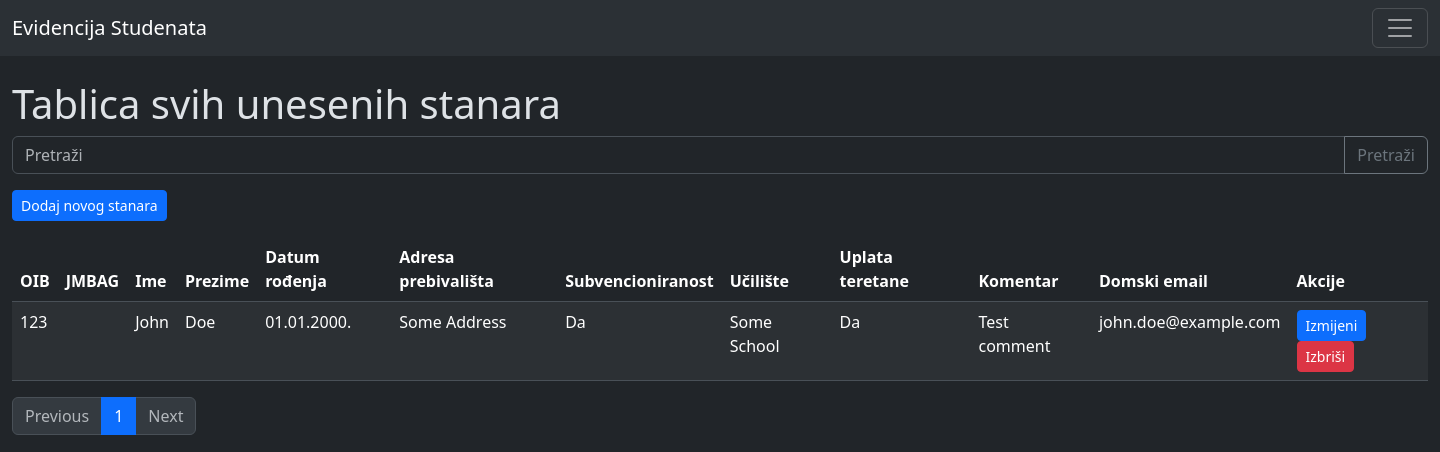
PopisUnesenihStanaraPage › deletes a user correctly
Simulate delete action
Click the button "Izbriši" at (1325, 356), box 1296,341 -> 1354,372
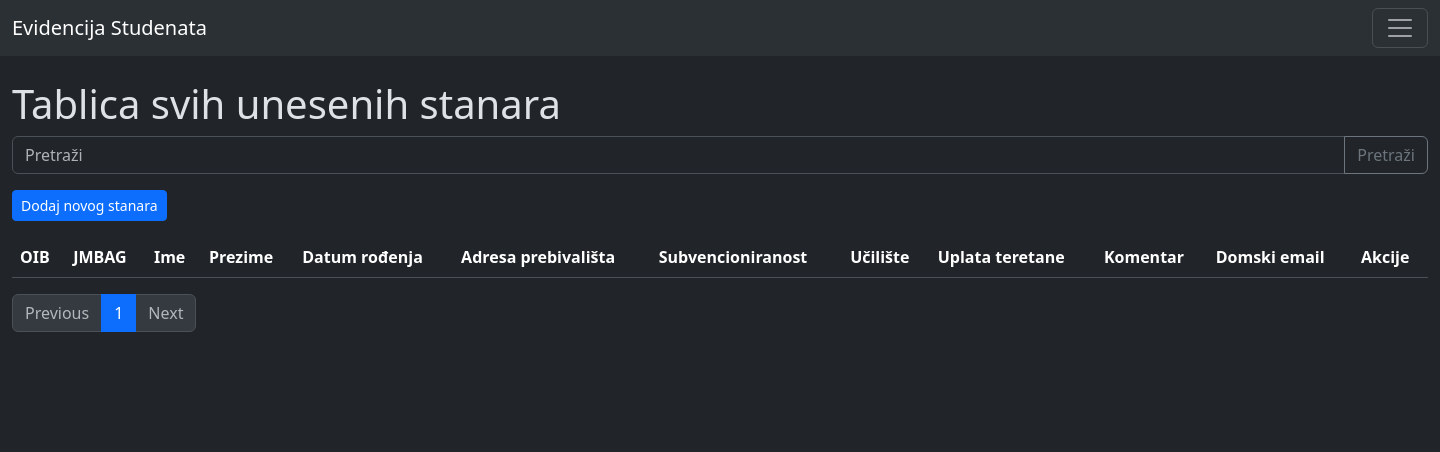
Expected: the text "John" is gone
